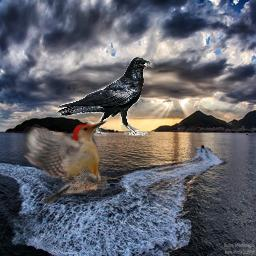Crow: (56, 57, 154, 136)
Woodpecker: (10, 119, 107, 204)
